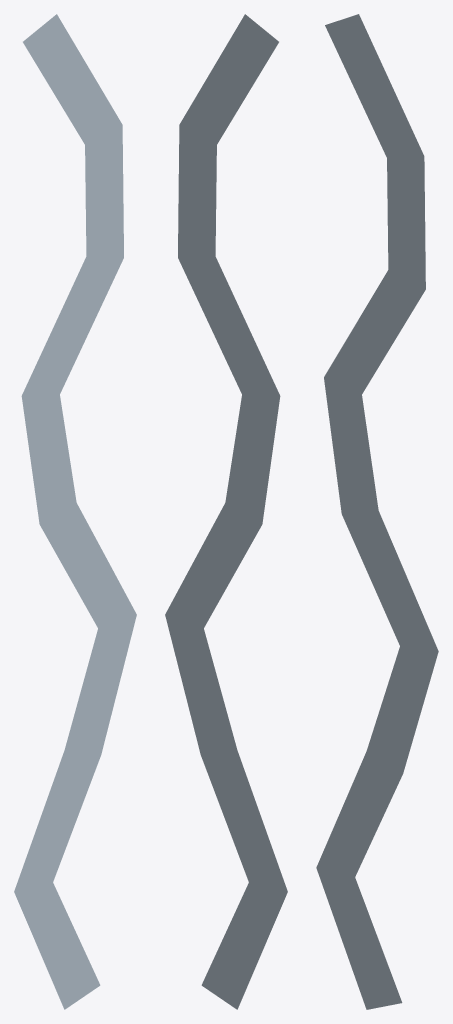
The model's file is 2085_ThunderWave_1Round_CosmeticColumn_29_3.fbx.
3 renders of one model, left to right at view 1: azimuth 30°, elevation 25°; view 2: azimuth 150°, elevation 25°; view 3: azimuth 330°, elevation 25°, orthographic.
Visible parts, largest first — view 1: PART_CosmeticColumn_29_3; view 2: PART_CosmeticColumn_29_3; view 3: PART_CosmeticColumn_29_3.
Part boxes in pixels (x1,y1,x2,y2): PART_CosmeticColumn_29_3: [14, 14, 136, 1009]; PART_CosmeticColumn_29_3: [165, 14, 287, 1009]; PART_CosmeticColumn_29_3: [316, 14, 438, 1009].
Size of the model in its own units: 15.75 by 122 by 1.99e-05.
